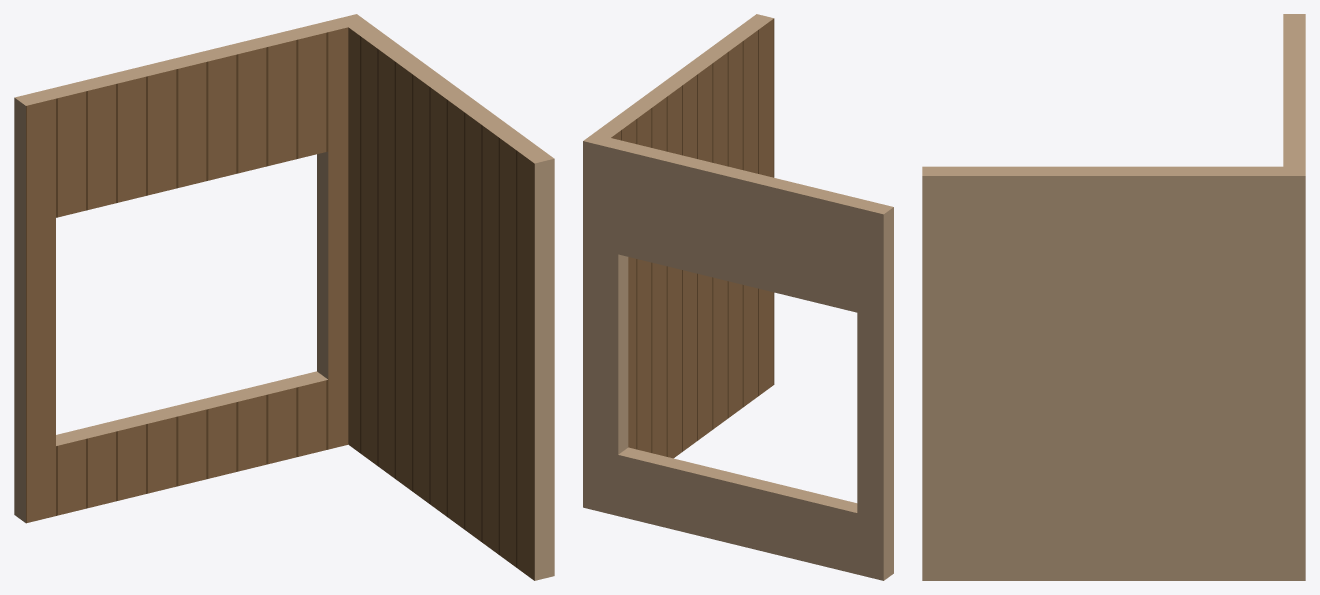
Rendered from Wall2_C9_13.fbx.
3 renders of one model, left to right at view 1: azimuth 30°, elevation 25°; view 2: azimuth 150°, elevation 25°; view 3: azimuth 270°, elevation 25°, orthographic. The views are drawn at different scales.
Parts seen in each view (by area): view 1: Wall2_C9_13; view 2: Wall2_C9_13; view 3: Wall2_C9_13.
Boxes of the visible parts, left/top/right/bottom form: Wall2_C9_13: left=14, top=14, right=554, bottom=580; Wall2_C9_13: left=583, top=14, right=893, bottom=580; Wall2_C9_13: left=922, top=14, right=1305, bottom=580.
Size of the model in its own units: 258 by 300 by 258.
